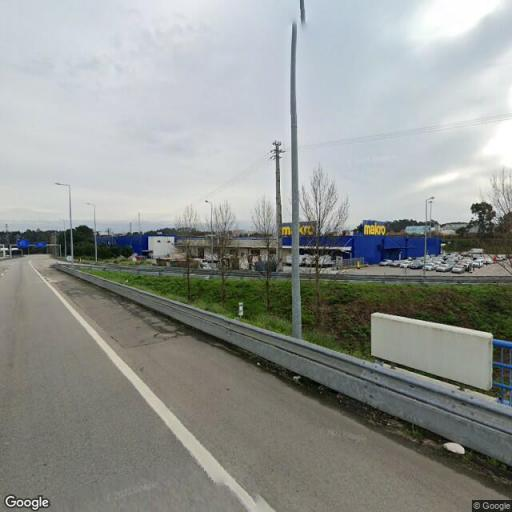mono_8: (269, 136, 287, 274)
